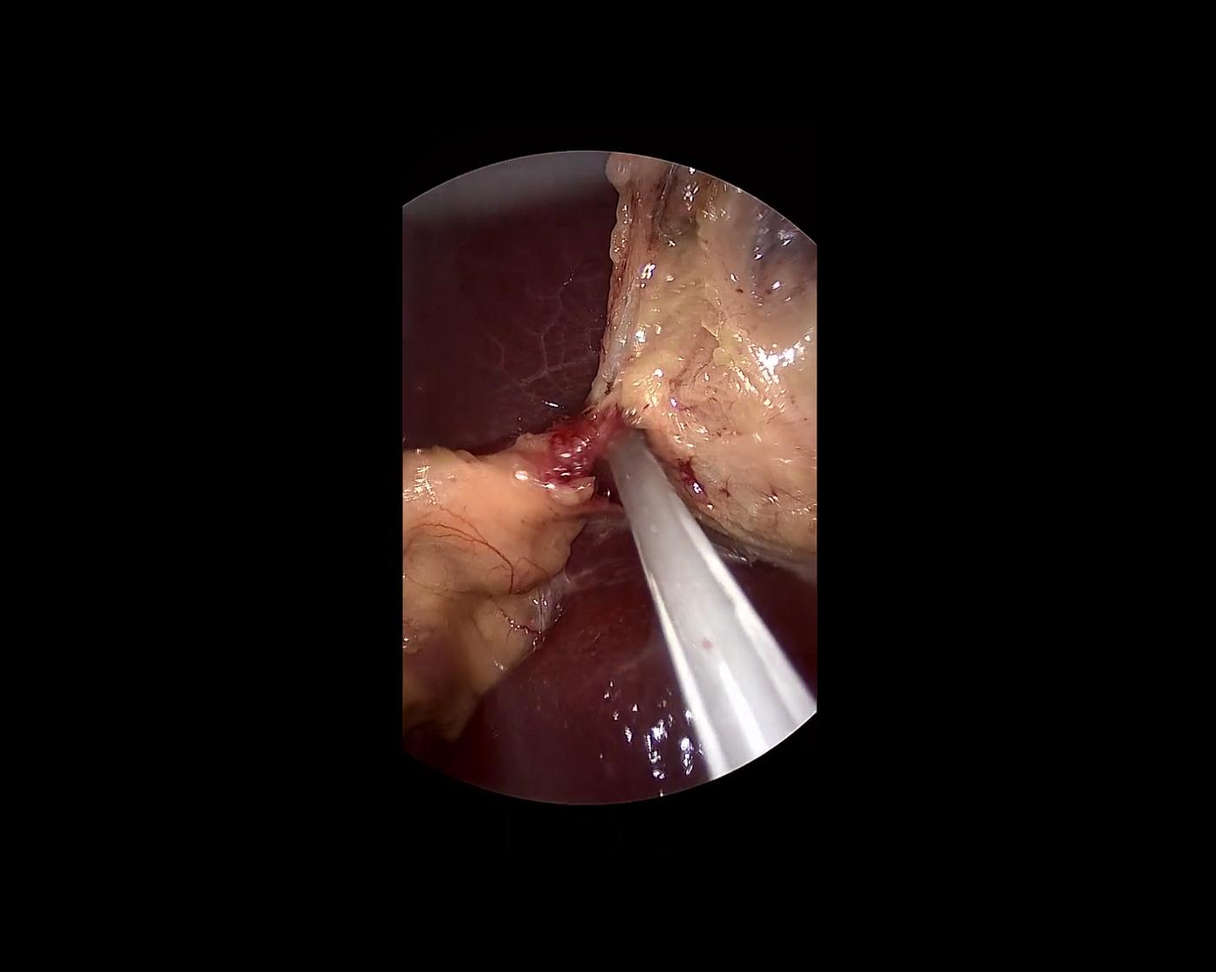Gallbladder: (603, 153, 815, 592)
Liver: (436, 482, 856, 901), (398, 152, 614, 454)
Suction: (566, 396, 826, 782)
